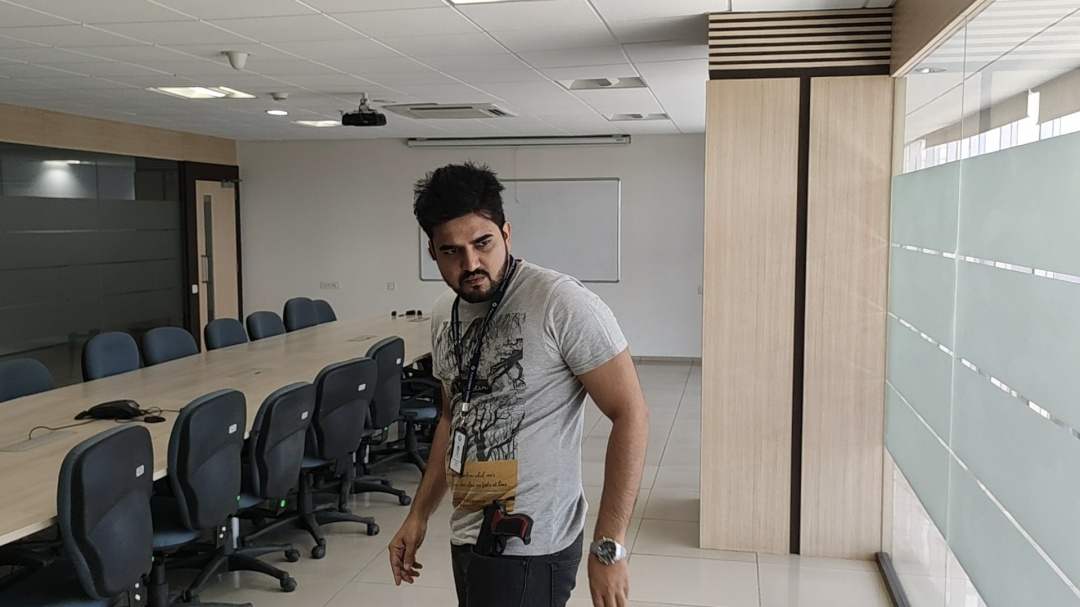gun: (468, 501, 533, 560)
